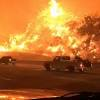fire: (19, 2, 78, 55)
